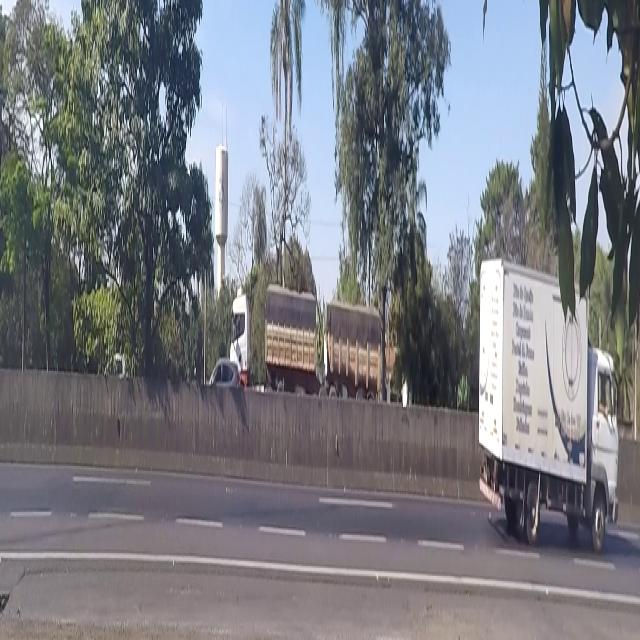-axle: (590, 474, 609, 560), (526, 476, 542, 548)
